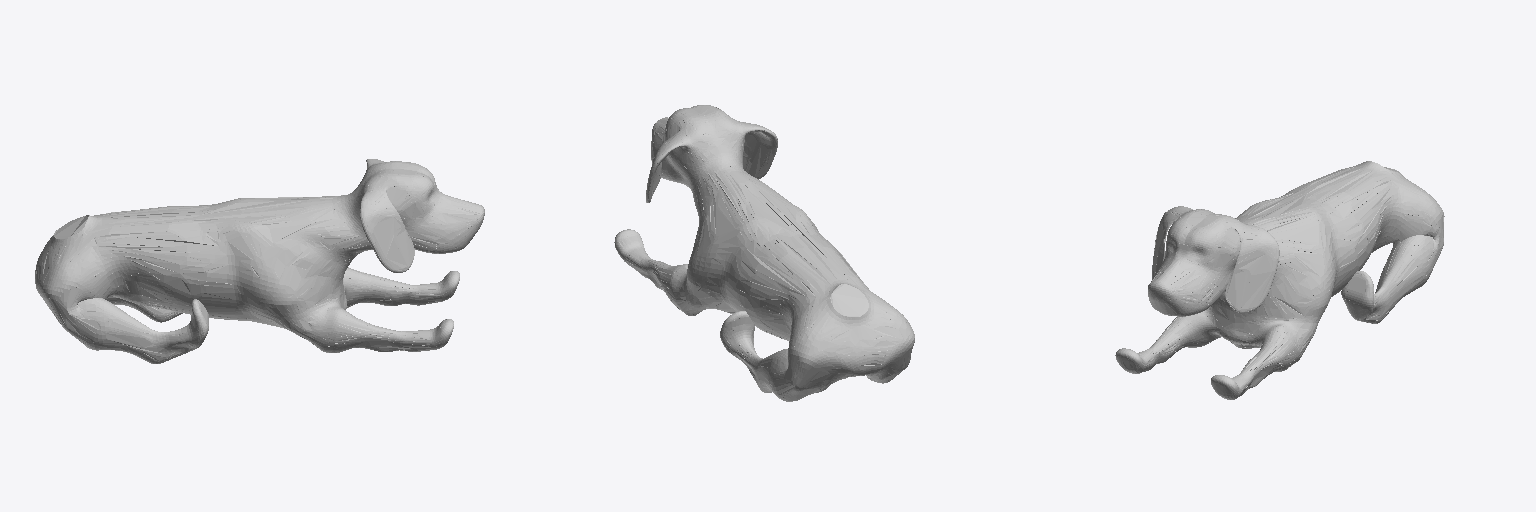
File: dog.obj
3 renders of one model, left to right at view 1: azimuth 30°, elevation 25°; view 2: azimuth 150°, elevation 25°; view 3: azimuth 270°, elevation 25°, orthographic.
Visible parts, largest first — view 1: Dog; view 2: Dog; view 3: Dog.
Part boxes in pixels (x1,y1,x2,y2): Dog: (35,159,484,363); Dog: (614,105,914,401); Dog: (1115,161,1444,399).
Bounding box in the file's own units: 1.54 × 0.747 × 1.24.